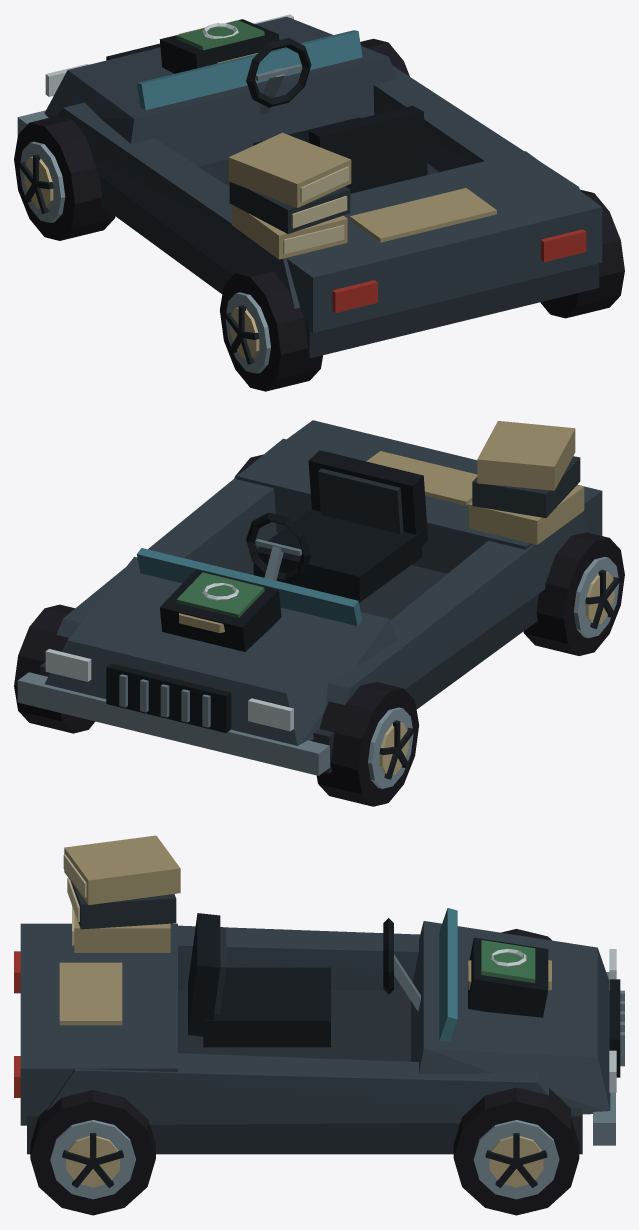
Rendered from kart.glb.
3 views of the same model, one above another, from view 1: azimuth 30°, elevation 25°; view 2: azimuth 150°, elevation 25°; view 3: azimuth 270°, elevation 25° (orthographic). The views are drawn at different scales.
Visible parts, largest first — view 1: identity-sedan-sedan-road-car-body, identity-sedan-motif-books, identity-sedan-driver-cockpit, wheel-front-left, wheel-rear-left, identity-sedan-motif-scanner, wheel-rear-right, wheel-front-right; view 2: identity-sedan-sedan-road-car-body, identity-sedan-driver-cockpit, identity-sedan-motif-books, wheel-front-left, wheel-rear-left, identity-sedan-motif-scanner, wheel-front-right; view 3: identity-sedan-sedan-road-car-body, identity-sedan-driver-cockpit, wheel-front-right, wheel-rear-right, identity-sedan-motif-books, identity-sedan-motif-scanner.
Part boxes in pixels (bbox=[...]): identity-sedan-sedan-road-car-body: bbox=[17, 14, 602, 358]; identity-sedan-motif-books: bbox=[228, 132, 351, 259]; identity-sedan-driver-cockpit: bbox=[246, 38, 427, 193]; wheel-front-left: bbox=[14, 116, 115, 240]; wheel-rear-left: bbox=[220, 267, 322, 391]; identity-sedan-motif-scanner: bbox=[159, 19, 279, 73]; wheel-rear-right: bbox=[540, 189, 624, 318]; wheel-front-right: bbox=[360, 38, 409, 76]; identity-sedan-sedan-road-car-body: bbox=[17, 420, 602, 775]; identity-sedan-driver-cockpit: bbox=[246, 450, 428, 602]; identity-sedan-motif-books: bbox=[468, 421, 584, 544]; wheel-front-left: bbox=[316, 682, 419, 806]; wheel-rear-left: bbox=[523, 532, 624, 655]; identity-sedan-motif-scanner: bbox=[159, 570, 281, 651]; wheel-front-right: bbox=[14, 604, 95, 733]; identity-sedan-sedan-road-car-body: bbox=[14, 908, 624, 1154]; identity-sedan-driver-cockpit: bbox=[188, 913, 420, 1047]; wheel-front-right: bbox=[453, 1087, 579, 1215]; wheel-rear-right: bbox=[30, 1090, 155, 1215]; identity-sedan-motif-books: bbox=[63, 835, 180, 952]; identity-sedan-motif-scanner: bbox=[468, 937, 548, 1017].
Size of the model in its own units: 2.07 by 1.12 by 2.92.
